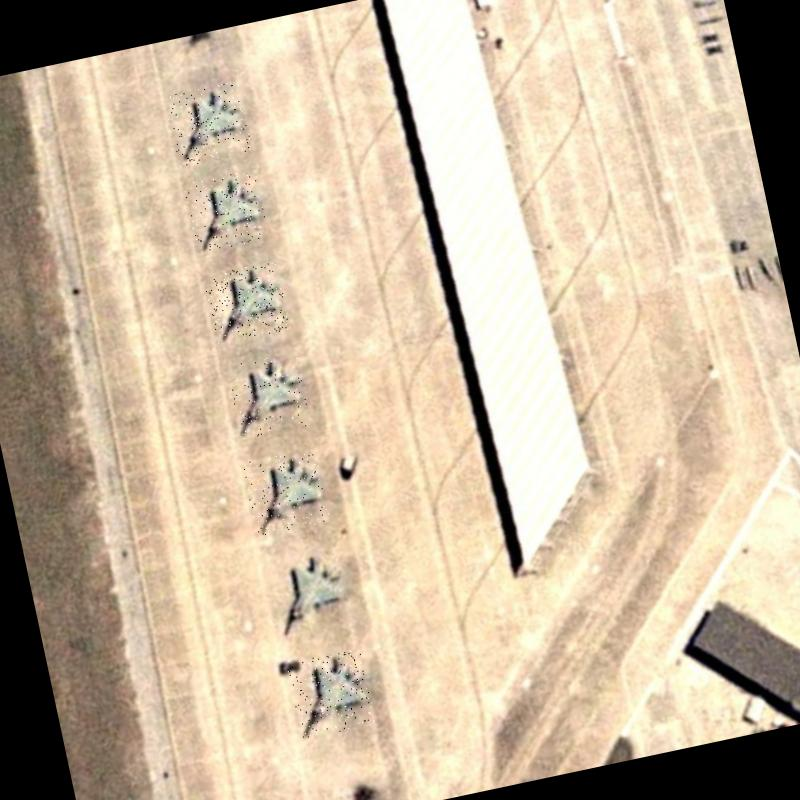A13: (285, 648, 377, 740), (266, 546, 352, 641), (242, 446, 330, 536), (164, 81, 254, 168), (225, 351, 312, 440), (203, 260, 291, 344), (184, 169, 270, 254)
